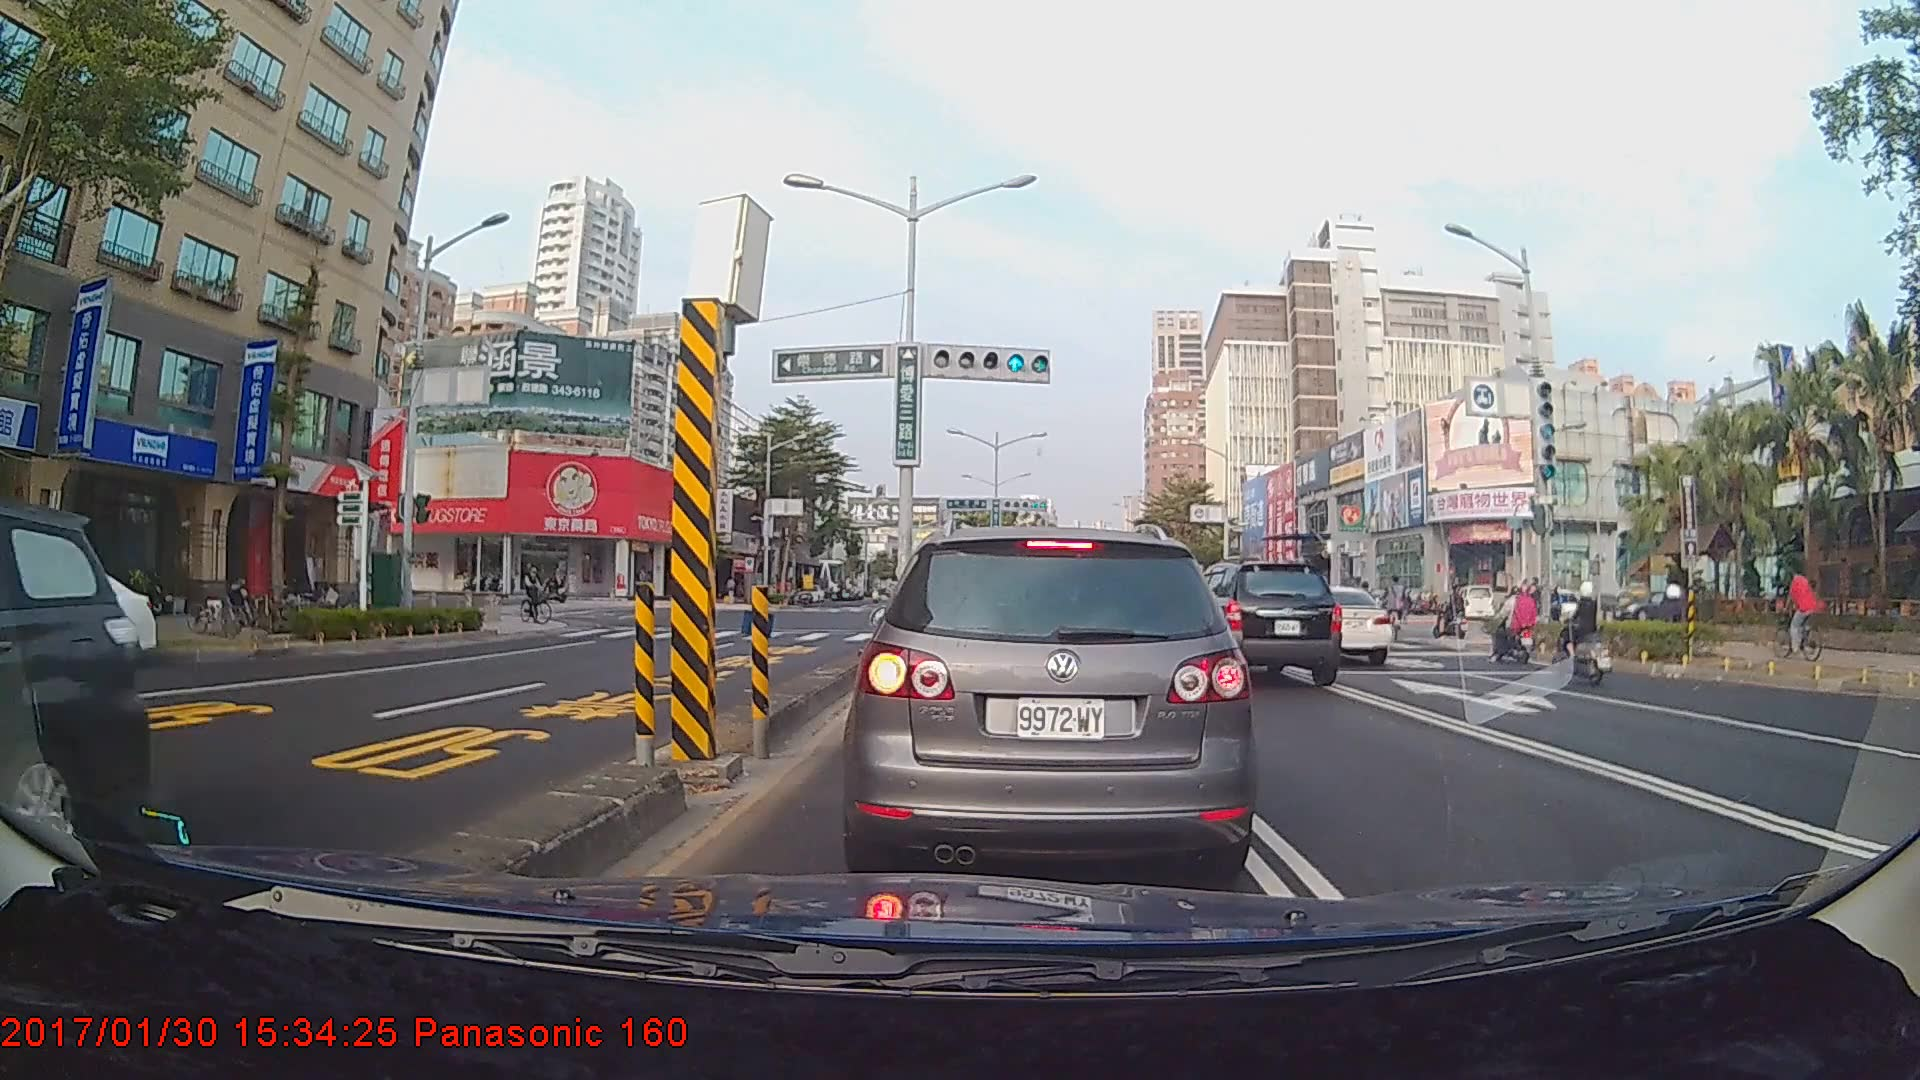rider: (1555, 578, 1613, 694), (1485, 582, 1548, 668), (1768, 566, 1821, 660), (1642, 578, 1697, 654), (518, 559, 561, 629), (1379, 570, 1409, 658), (1436, 582, 1473, 646), (528, 563, 572, 610)
vehicle: (853, 521, 1249, 874), (0, 495, 145, 972), (1160, 556, 1344, 687), (1265, 583, 1390, 665)
